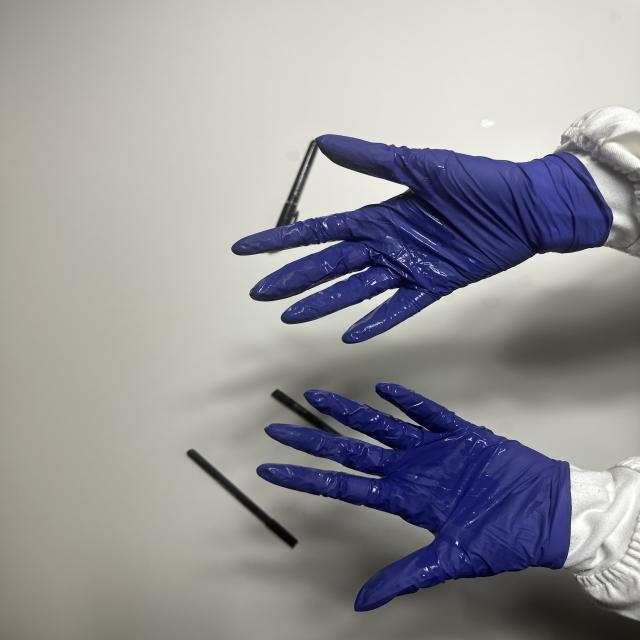gloves_contaminated: (232, 135, 612, 343), (257, 383, 571, 611)
